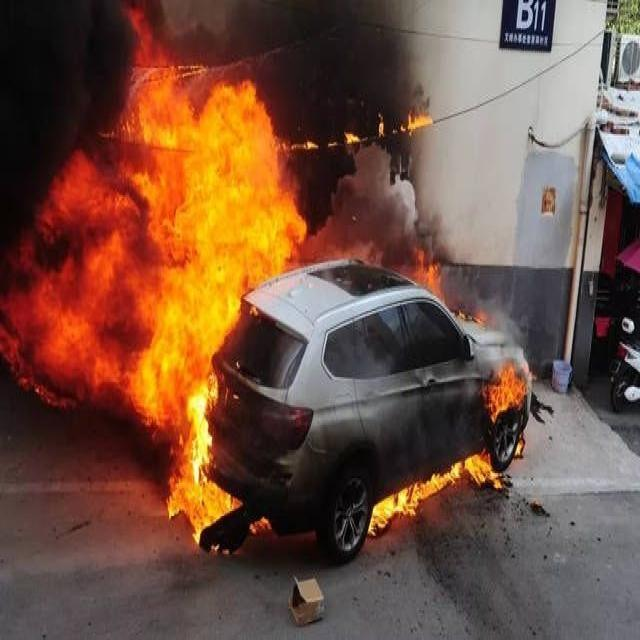Fire: (2, 8, 320, 554), (366, 446, 507, 540), (476, 364, 530, 422), (413, 248, 445, 306), (401, 110, 433, 136), (344, 129, 361, 146), (514, 438, 524, 456)
Smoke: (306, 142, 531, 364)
